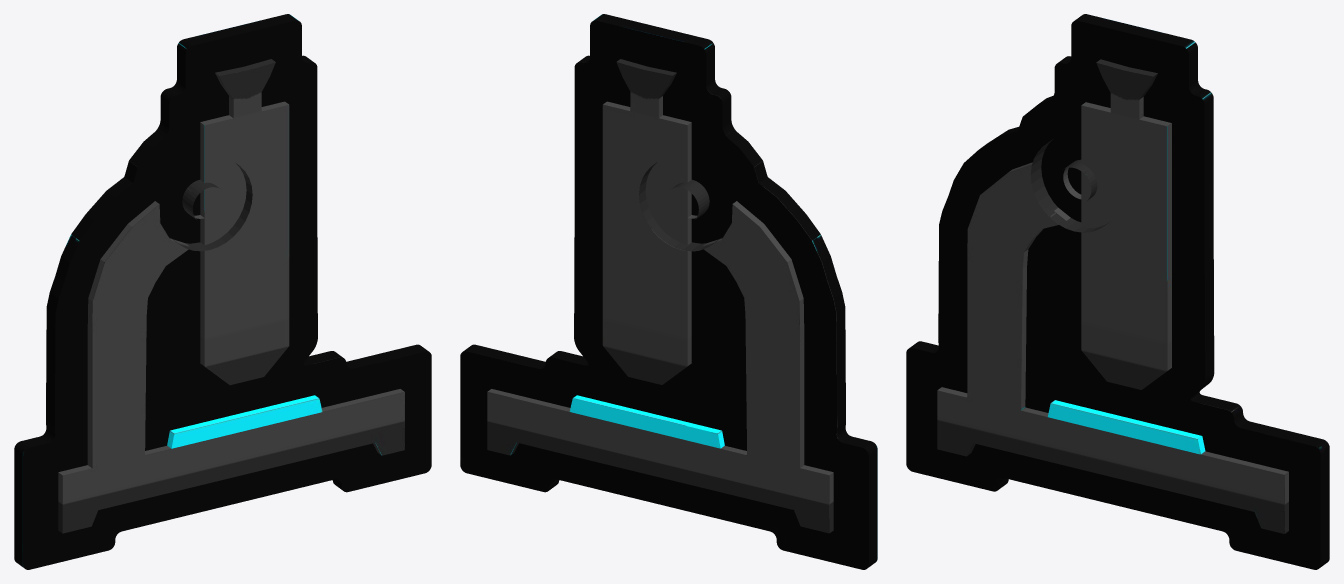
File: Research_badge.glb
The picture shows the model from 3 angles, left to right: view 1: azimuth 30°, elevation 25°; view 2: azimuth 150°, elevation 25°; view 3: azimuth 330°, elevation 25°; orthographic projection.
Visible parts, largest first — view 1: Research Badge; view 2: Research Badge; view 3: Research Badge.
Boxes of the visible parts, <box> form: Research Badge: <box>14,14,431,569</box>; Research Badge: <box>460,14,877,569</box>; Research Badge: <box>906,14,1329,569</box>.
Size of the model in its own units: 0.0755 by 0.0855 by 0.00963.
1 material, 1 textured.
